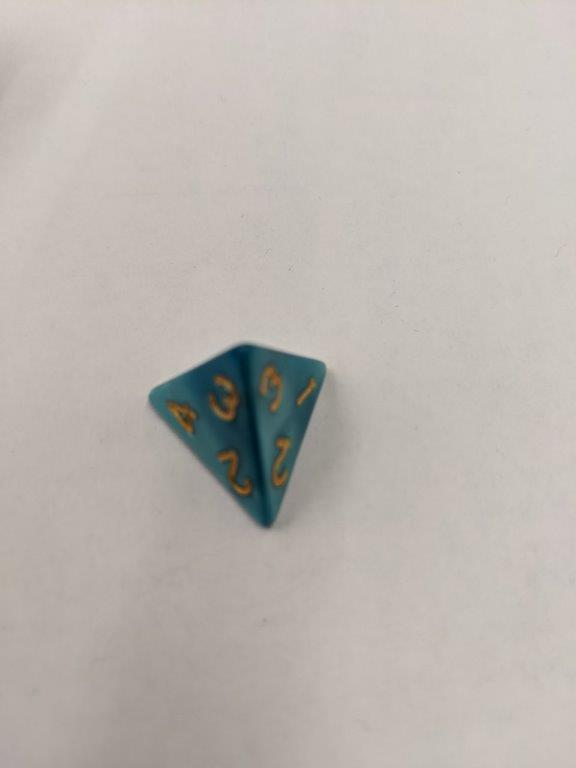d4-3: (142, 339, 331, 531)
